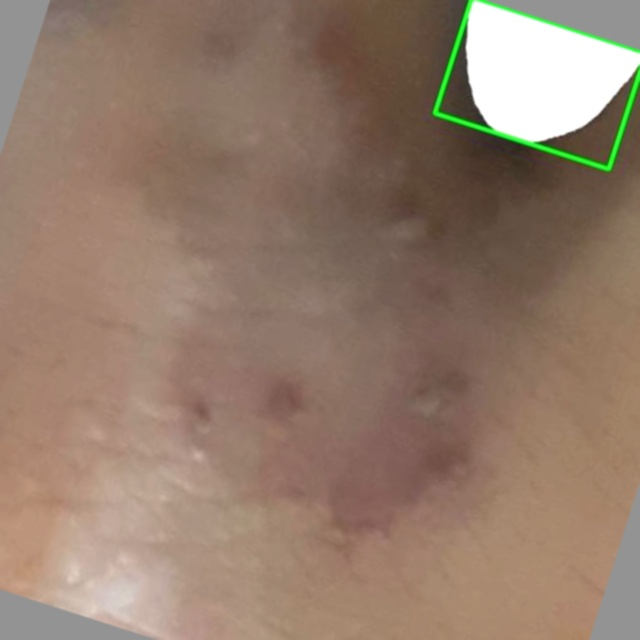Contact Dermatitis: (434, 0, 639, 169)
